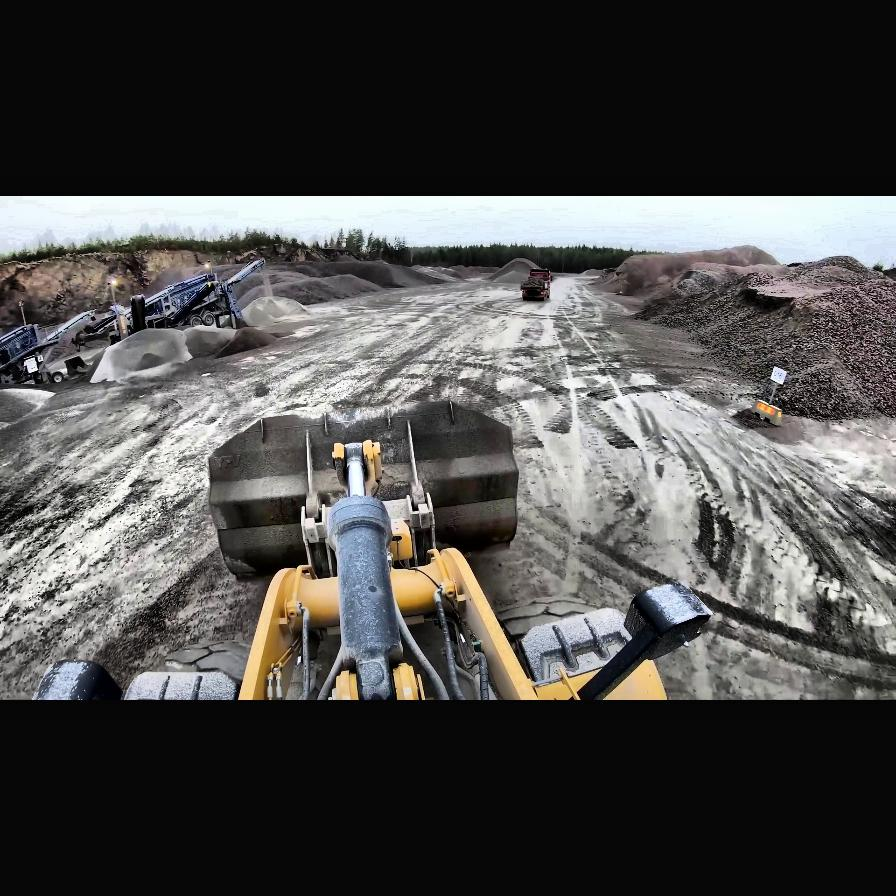anchor: (334, 438, 384, 496)
pile of gravel: (600, 248, 896, 426), (1, 250, 155, 338), (92, 324, 278, 380), (601, 246, 783, 300), (272, 256, 436, 292), (250, 270, 388, 308), (488, 258, 554, 284)
